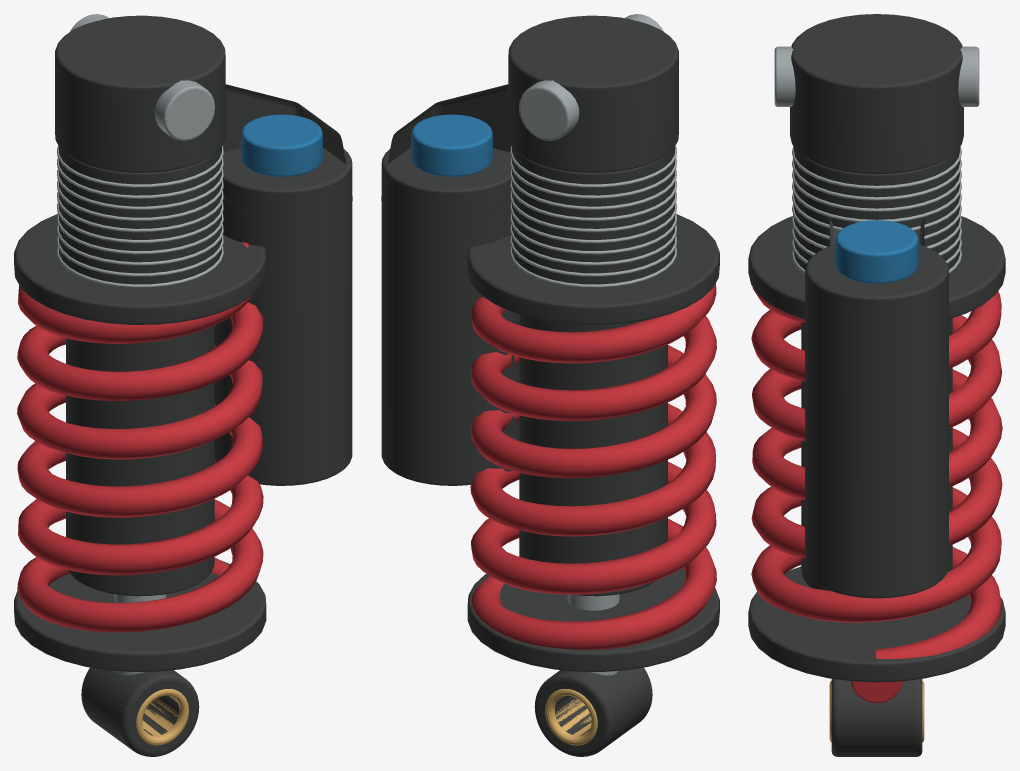
File: rockshox-vivid-coil-ultimate-d1--ba98884c.glb
3 renders of one model, left to right at view 1: azimuth 30°, elevation 25°; view 2: azimuth 150°, elevation 25°; view 3: azimuth 270°, elevation 25°, orthographic.
Parts seen in each view (by area): view 1: rockshox-vivid-coil-ultimate-d1--ba98884c__link, rockshox-vivid-coil-ultimate-d1--ba98884c__rebound, rockshox-vivid-coil-ultimate-d1--ba98884c__bolts, rockshox-vivid-coil-ultimate-d1--ba98884c__adjuster, rockshox-vivid-coil-ultimate-d1--ba98884c__stanchions; view 2: rockshox-vivid-coil-ultimate-d1--ba98884c__link, rockshox-vivid-coil-ultimate-d1--ba98884c__rebound, rockshox-vivid-coil-ultimate-d1--ba98884c__bolts, rockshox-vivid-coil-ultimate-d1--ba98884c__adjuster, rockshox-vivid-coil-ultimate-d1--ba98884c__stanchions; view 3: rockshox-vivid-coil-ultimate-d1--ba98884c__link, rockshox-vivid-coil-ultimate-d1--ba98884c__rebound, rockshox-vivid-coil-ultimate-d1--ba98884c__bolts, rockshox-vivid-coil-ultimate-d1--ba98884c__adjuster.
Boxes of the visible parts, x1=… form: rockshox-vivid-coil-ultimate-d1--ba98884c__link: x1=14, y1=15, x2=352, y2=756; rockshox-vivid-coil-ultimate-d1--ba98884c__rebound: x1=17, y1=242, x2=263, y2=632; rockshox-vivid-coil-ultimate-d1--ba98884c__bolts: x1=57, y1=14, x2=223, y2=675; rockshox-vivid-coil-ultimate-d1--ba98884c__adjuster: x1=241, y1=114, x2=322, y2=176; rockshox-vivid-coil-ultimate-d1--ba98884c__stanchions: x1=136, y1=689, x2=188, y2=745; rockshox-vivid-coil-ultimate-d1--ba98884c__link: x1=381, y1=15, x2=719, y2=756; rockshox-vivid-coil-ultimate-d1--ba98884c__rebound: x1=470, y1=283, x2=716, y2=649; rockshox-vivid-coil-ultimate-d1--ba98884c__bolts: x1=510, y1=14, x2=676, y2=675; rockshox-vivid-coil-ultimate-d1--ba98884c__adjuster: x1=411, y1=114, x2=492, y2=176; rockshox-vivid-coil-ultimate-d1--ba98884c__stanchions: x1=545, y1=689, x2=597, y2=745; rockshox-vivid-coil-ultimate-d1--ba98884c__link: x1=748, y1=14, x2=1005, y2=756; rockshox-vivid-coil-ultimate-d1--ba98884c__rebound: x1=751, y1=287, x2=1002, y2=703; rockshox-vivid-coil-ultimate-d1--ba98884c__bolts: x1=774, y1=46, x2=979, y2=273; rockshox-vivid-coil-ultimate-d1--ba98884c__adjuster: x1=835, y1=220, x2=918, y2=283.
Bounding box in the file's own units: 0.097 × 0.205 × 0.068.
